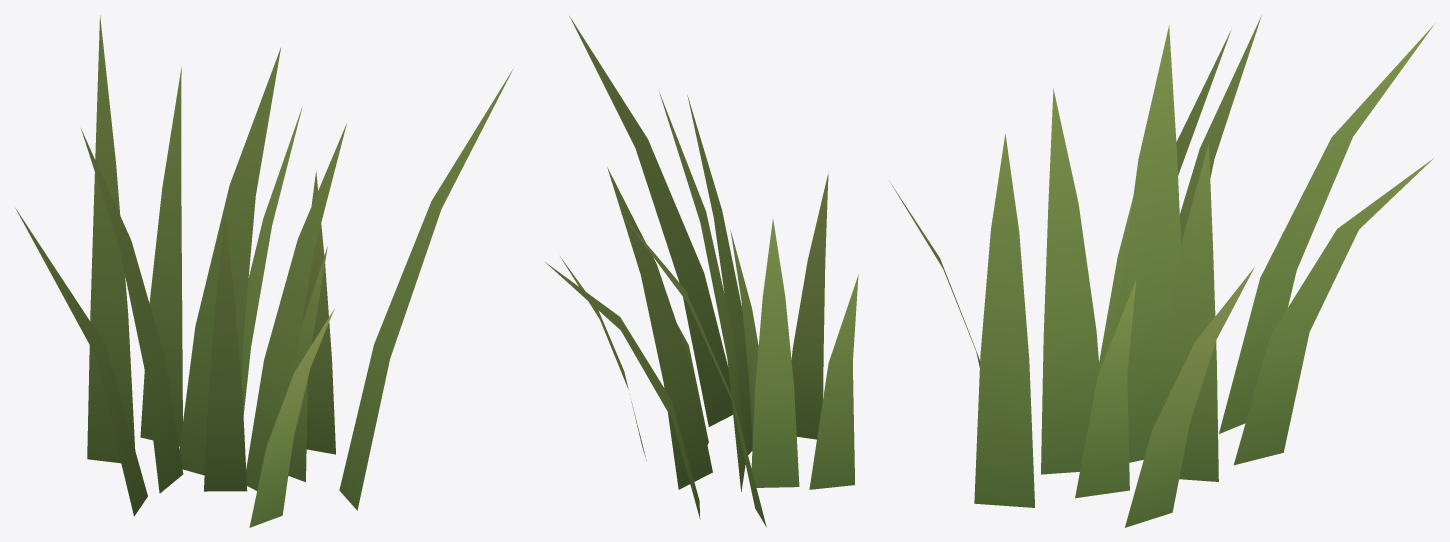
Rendered from grass_short_A.glb.
3 views of the same model, side by side, from view 1: azimuth 30°, elevation 25°; view 2: azimuth 150°, elevation 25°; view 3: azimuth 270°, elevation 25° (orthographic). The views are drawn at different scales.
Parts seen in each view (by area): view 1: grass_short_A; view 2: grass_short_A; view 3: grass_short_A.
Boxes of the visible parts, x1,y1,x2,y2 form: grass_short_A: (15,15,512,527); grass_short_A: (545,16,858,527); grass_short_A: (889,15,1434,527).
Size of the model in its own units: 0.3155 by 0.3 by 0.3091.
